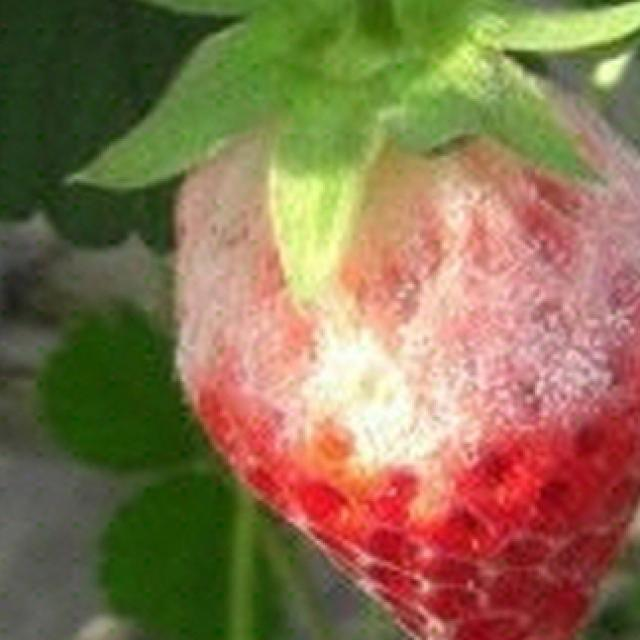Powdery Mildew Fruit: (167, 45, 640, 525)
